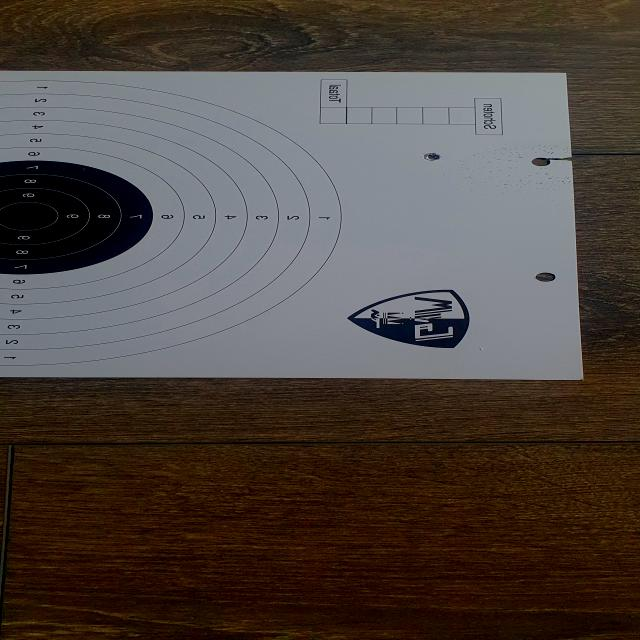0: (422, 151, 441, 162)
Target: (0, 78, 345, 366)
black_contour: (0, 159, 154, 275)
